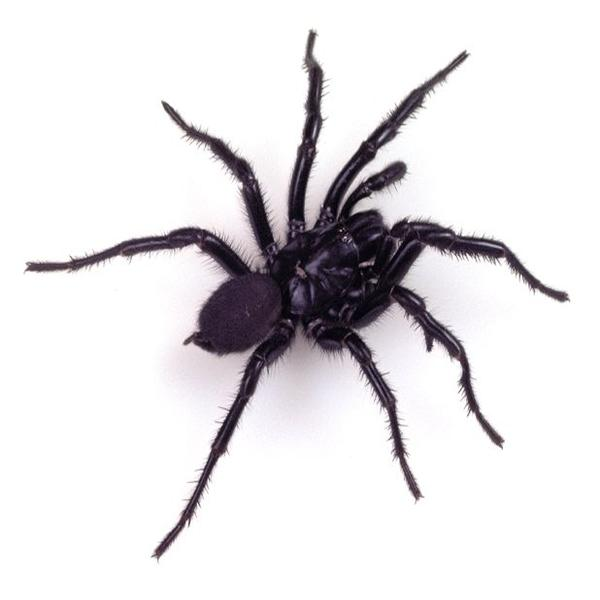Funnel Web Spider: (34, 36, 562, 547)
